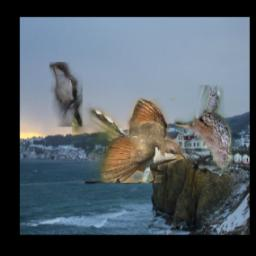Cuckoo: (73, 98, 187, 183), (50, 62, 84, 127)
Sparrow: (175, 86, 234, 168)
